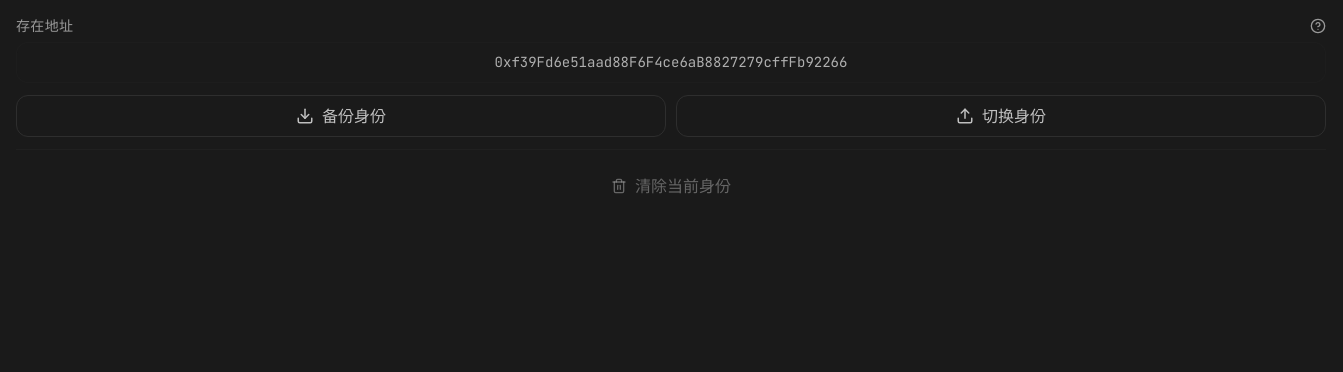
Test: IdentityPanel › Mode Switching › should navigate to help mode
The image size is (1343, 372).
Click the button named "身份系统说明" at (1318, 26), box [1310,18,1326,34]
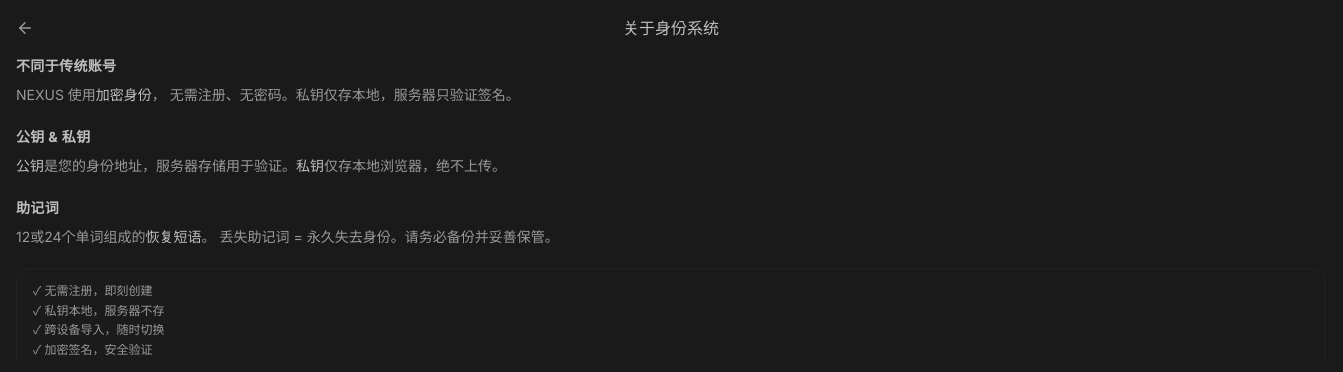
Check: the heading "关于身份系统" is shown, box [623,16,719,40]
